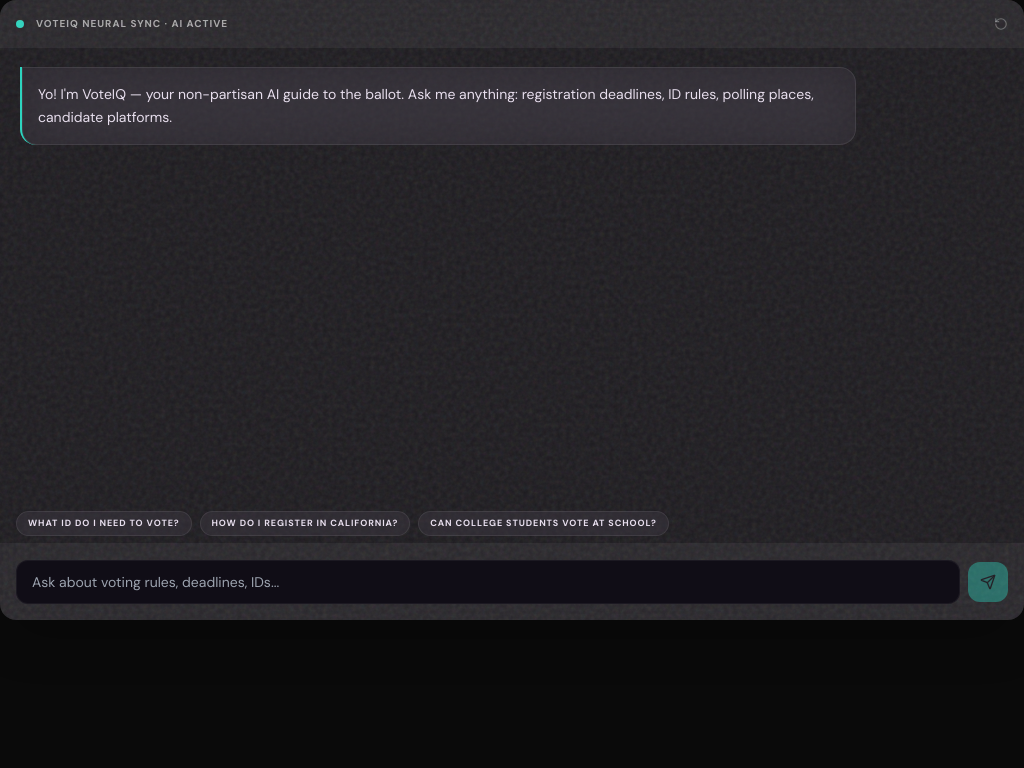
Test: ChatAssistant component › API integration › shows error message when fetch throws
The width and height of the screenshot is (1024, 768).
Type "Any question" into the field with placeholder "Ask about voting rules, deadlines, IDs..." at (488, 582), box [16, 560, 960, 604]
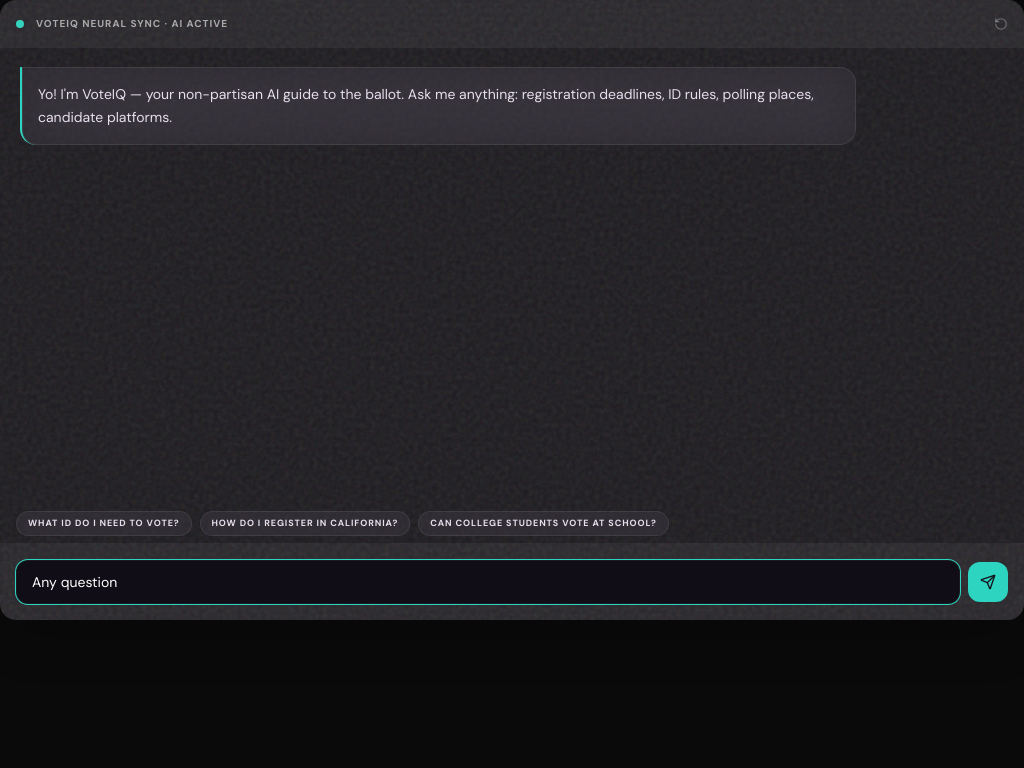
Submit the form with placeholder "Ask about voting rules", box [16, 560, 1008, 604]
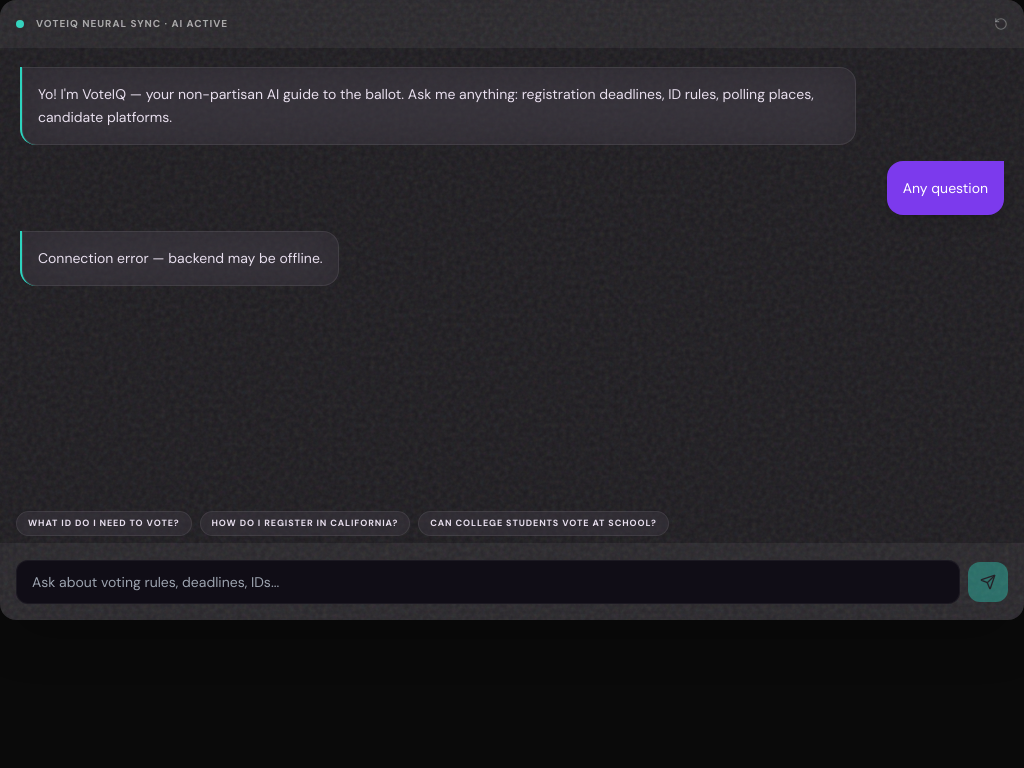
Result: the text "Connection error — backend may be offline." is shown at [20, 231, 339, 286]
